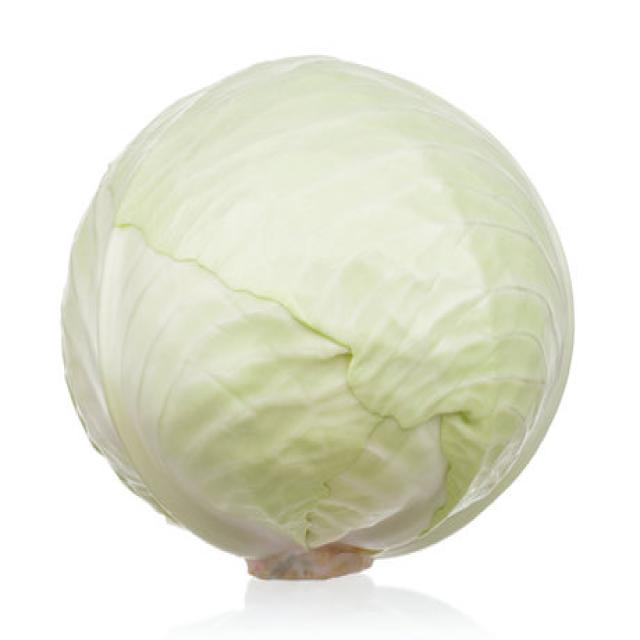Cabbage: (58, 51, 574, 582)
